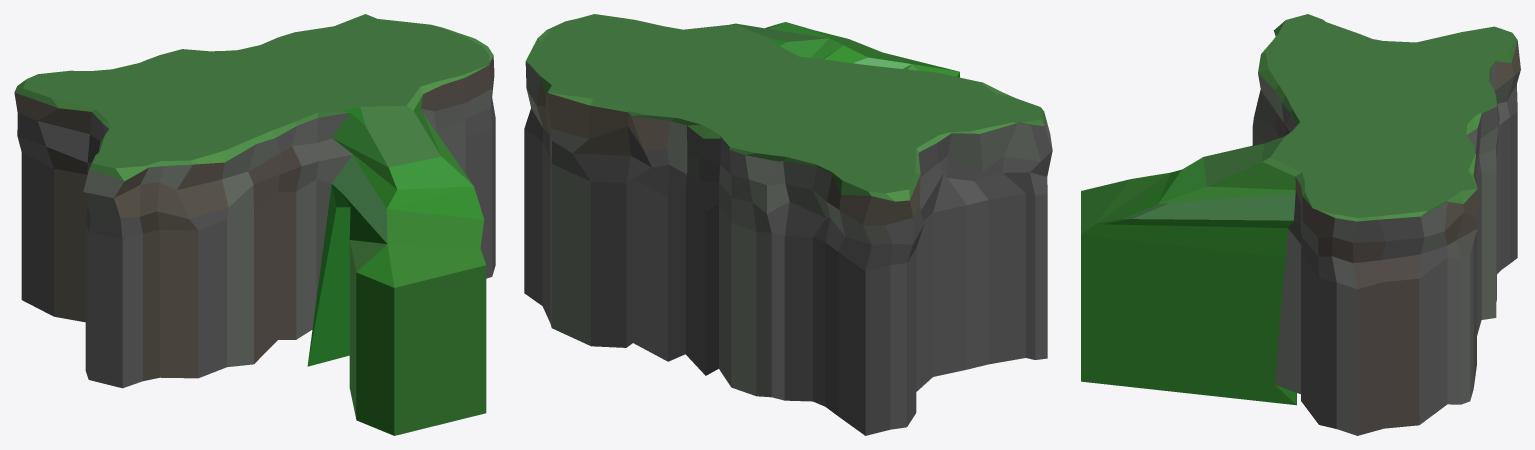
Rendered from mapachaof3.fbx.
3 renders of one model, left to right at view 1: azimuth 30°, elevation 25°; view 2: azimuth 150°, elevation 25°; view 3: azimuth 270°, elevation 25°, orthographic. The views are drawn at different scales.
Parts seen in each view (by area): view 1: Mapa.004; view 2: Mapa.004; view 3: Mapa.004.
Part boxes in pixels (x1,y1,x2,y2): Mapa.004: (14, 14, 495, 435); Mapa.004: (524, 14, 1052, 435); Mapa.004: (1081, 14, 1520, 435).
Size of the model in its own units: 71093 by 37437 by 63298.
